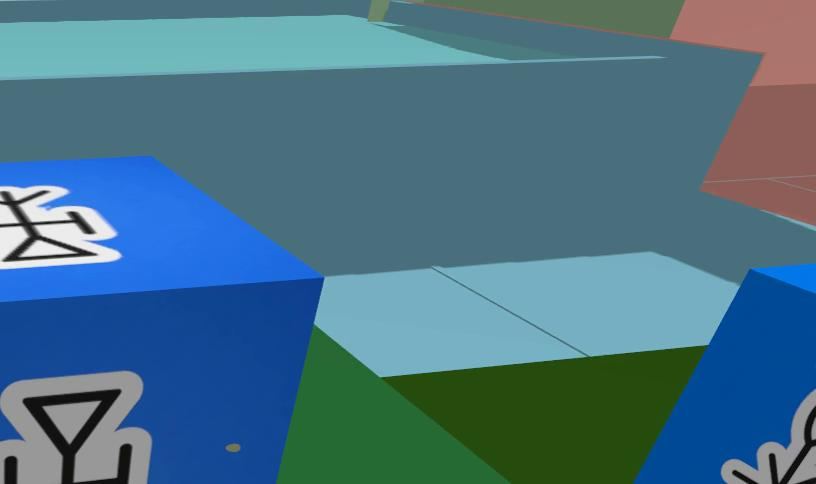KFS_REAL: (0, 156, 322, 484), (0, 371, 151, 484), (0, 186, 121, 267)
